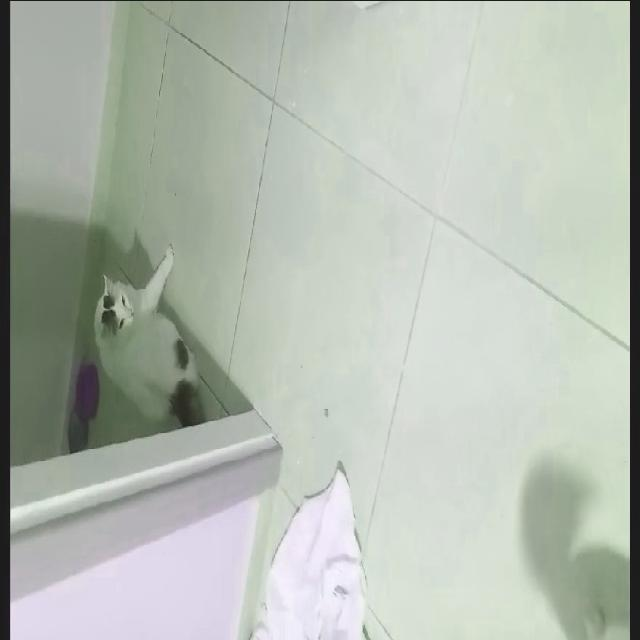Simba: (85, 220, 231, 426)
